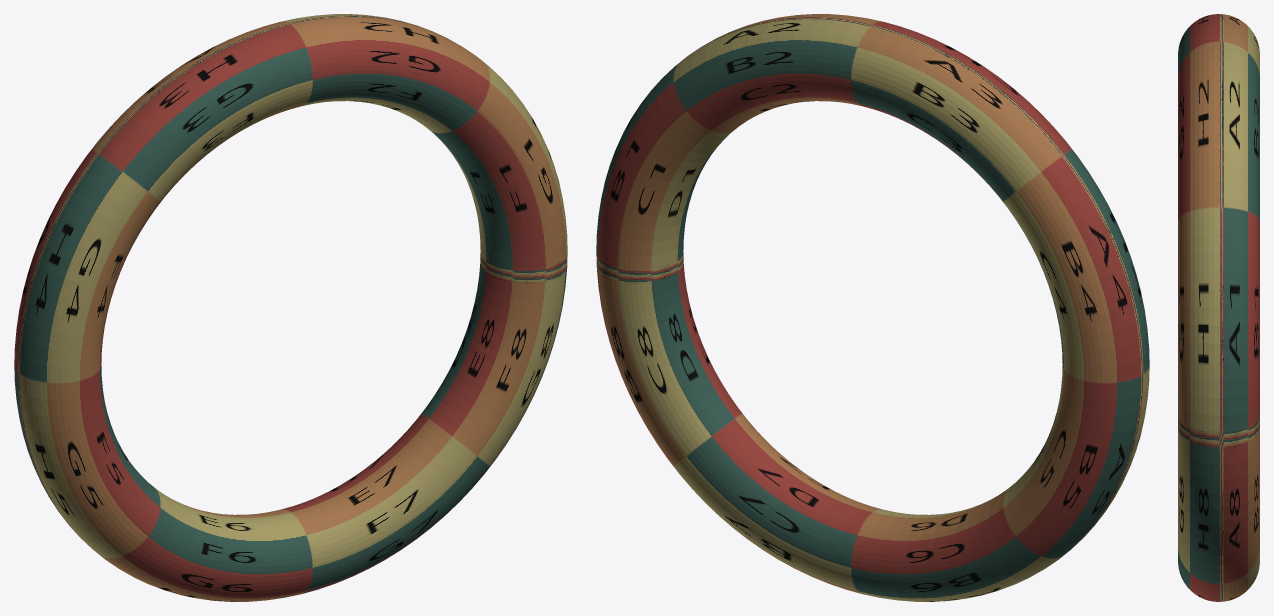
File: texture_torus_R6_r2.glb
3 views of the same model, side by side, from view 1: azimuth 30°, elevation 25°; view 2: azimuth 150°, elevation 25°; view 3: azimuth 270°, elevation 25° (orthographic). The views are drawn at different scales.
Visible parts, largest first — view 1: world; view 2: world; view 3: world.
Part boxes in pixels (<box>): world: <box>14,14,567,601</box>; world: <box>596,14,1149,601</box>; world: <box>1178,14,1259,601</box>.
Size of the model in its own units: 27.11 by 27.11 by 3.77.
1 material, 1 textured.
